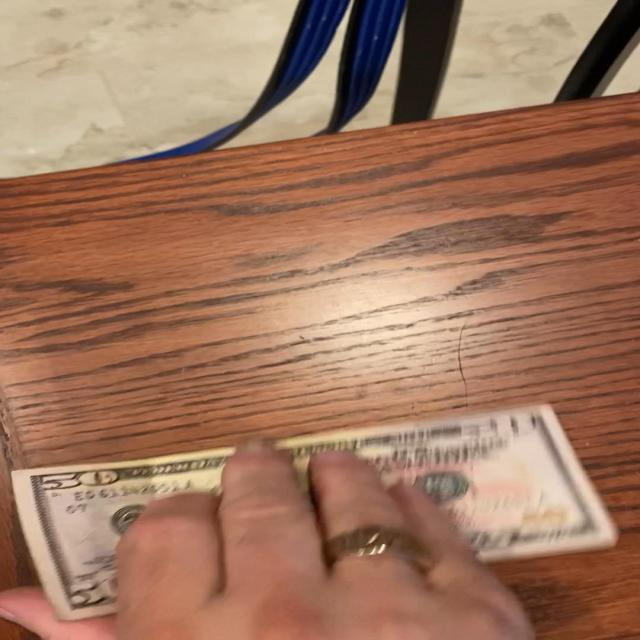50-Front: (6, 400, 638, 623)
